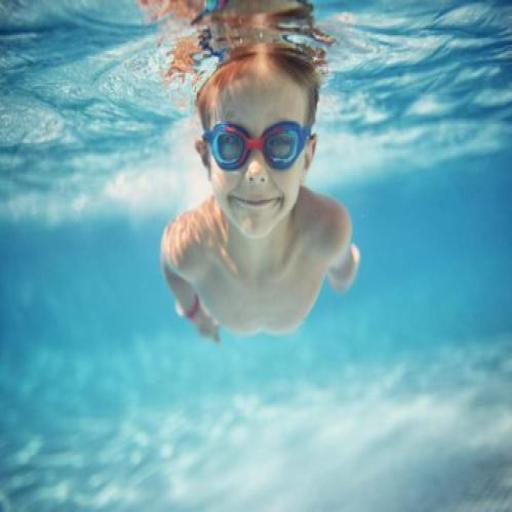swimming: (127, 49, 429, 426)
